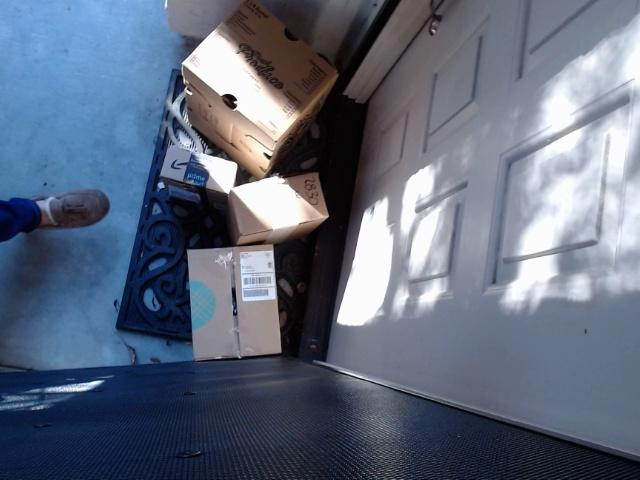box: (181, 0, 337, 179), (187, 244, 281, 361), (228, 172, 329, 246), (158, 144, 237, 212)
